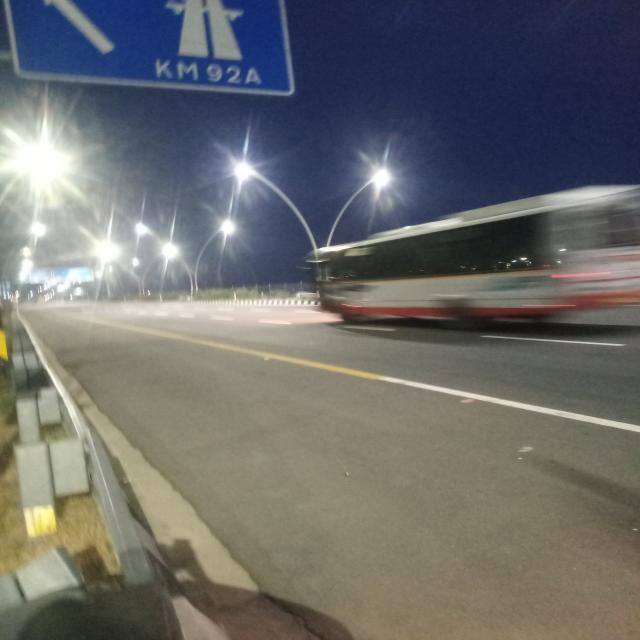Bus: (312, 185, 639, 319)
